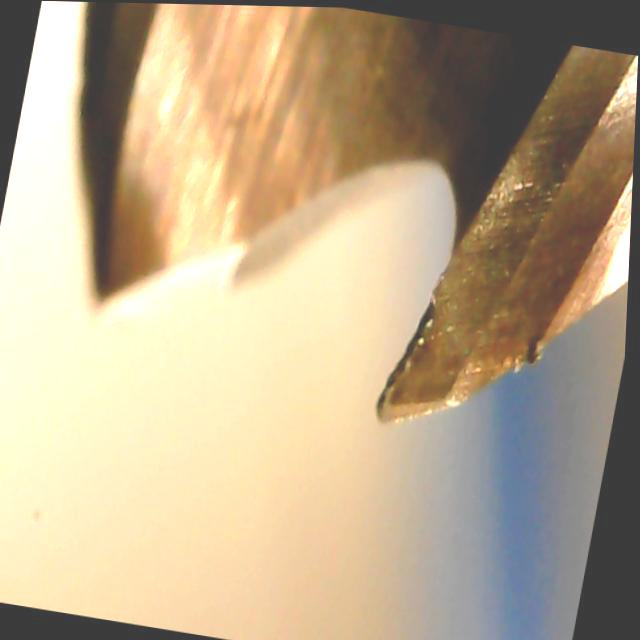Tool-wear-class-1: (373, 197, 553, 448)
